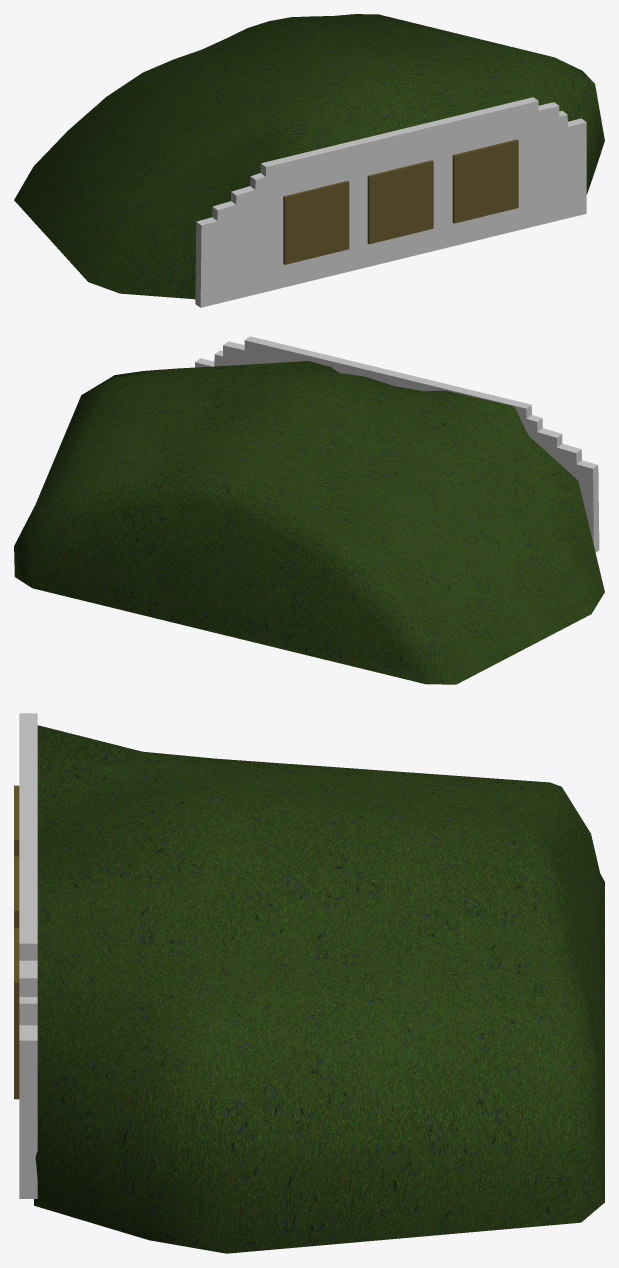
The model's file is edcd-garage_LOD00.gltf.
3 renders of one model, top to bottom at view 1: azimuth 30°, elevation 25°; view 2: azimuth 150°, elevation 25°; view 3: azimuth 270°, elevation 25°, orthographic. The views are drawn at different scales.
Parts seen in each view (by area): view 1: shelter body outer, garage front bricks, garage doors; view 2: shelter body outer, garage front bricks; view 3: shelter body outer, garage front bricks, garage doors.
Boxes of the visible parts, bbox=[...] form: shelter body outer: bbox=[14, 14, 604, 299]; garage front bricks: bbox=[195, 97, 586, 307]; garage doors: bbox=[283, 139, 518, 264]; shelter body outer: bbox=[14, 361, 604, 684]; garage front bricks: bbox=[195, 336, 599, 552]; shelter body outer: bbox=[34, 725, 604, 1253]; garage front bricks: bbox=[19, 713, 37, 1198]; garage doors: bbox=[14, 785, 19, 1099].
Size of the model in its own units: 27.38 by 7.8 by 16.1.
